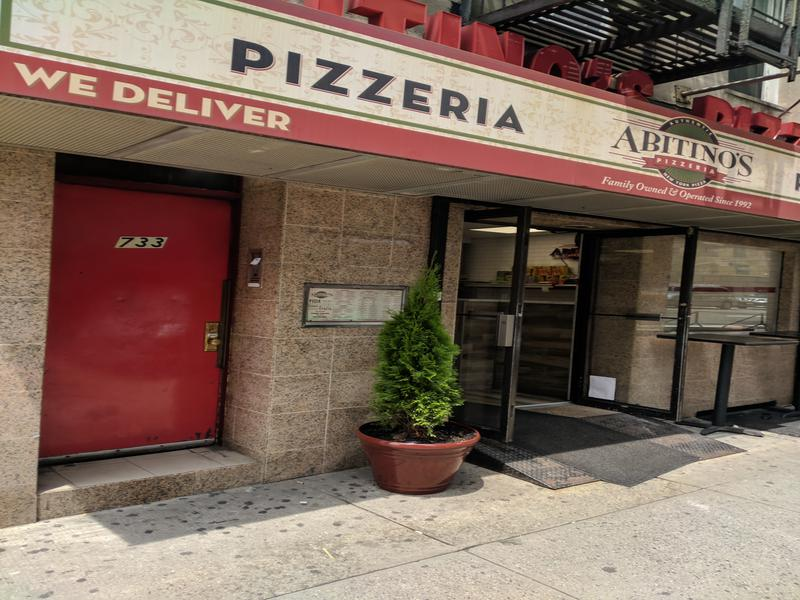door: (42, 169, 243, 466)
